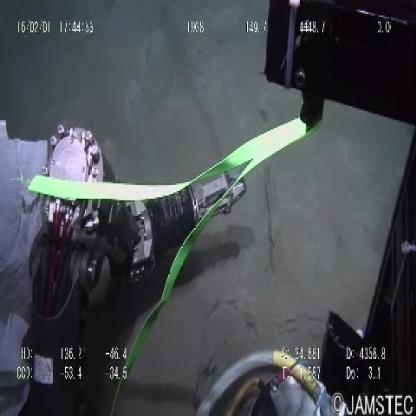Rov: (259, 3, 416, 404), (24, 116, 249, 340)
